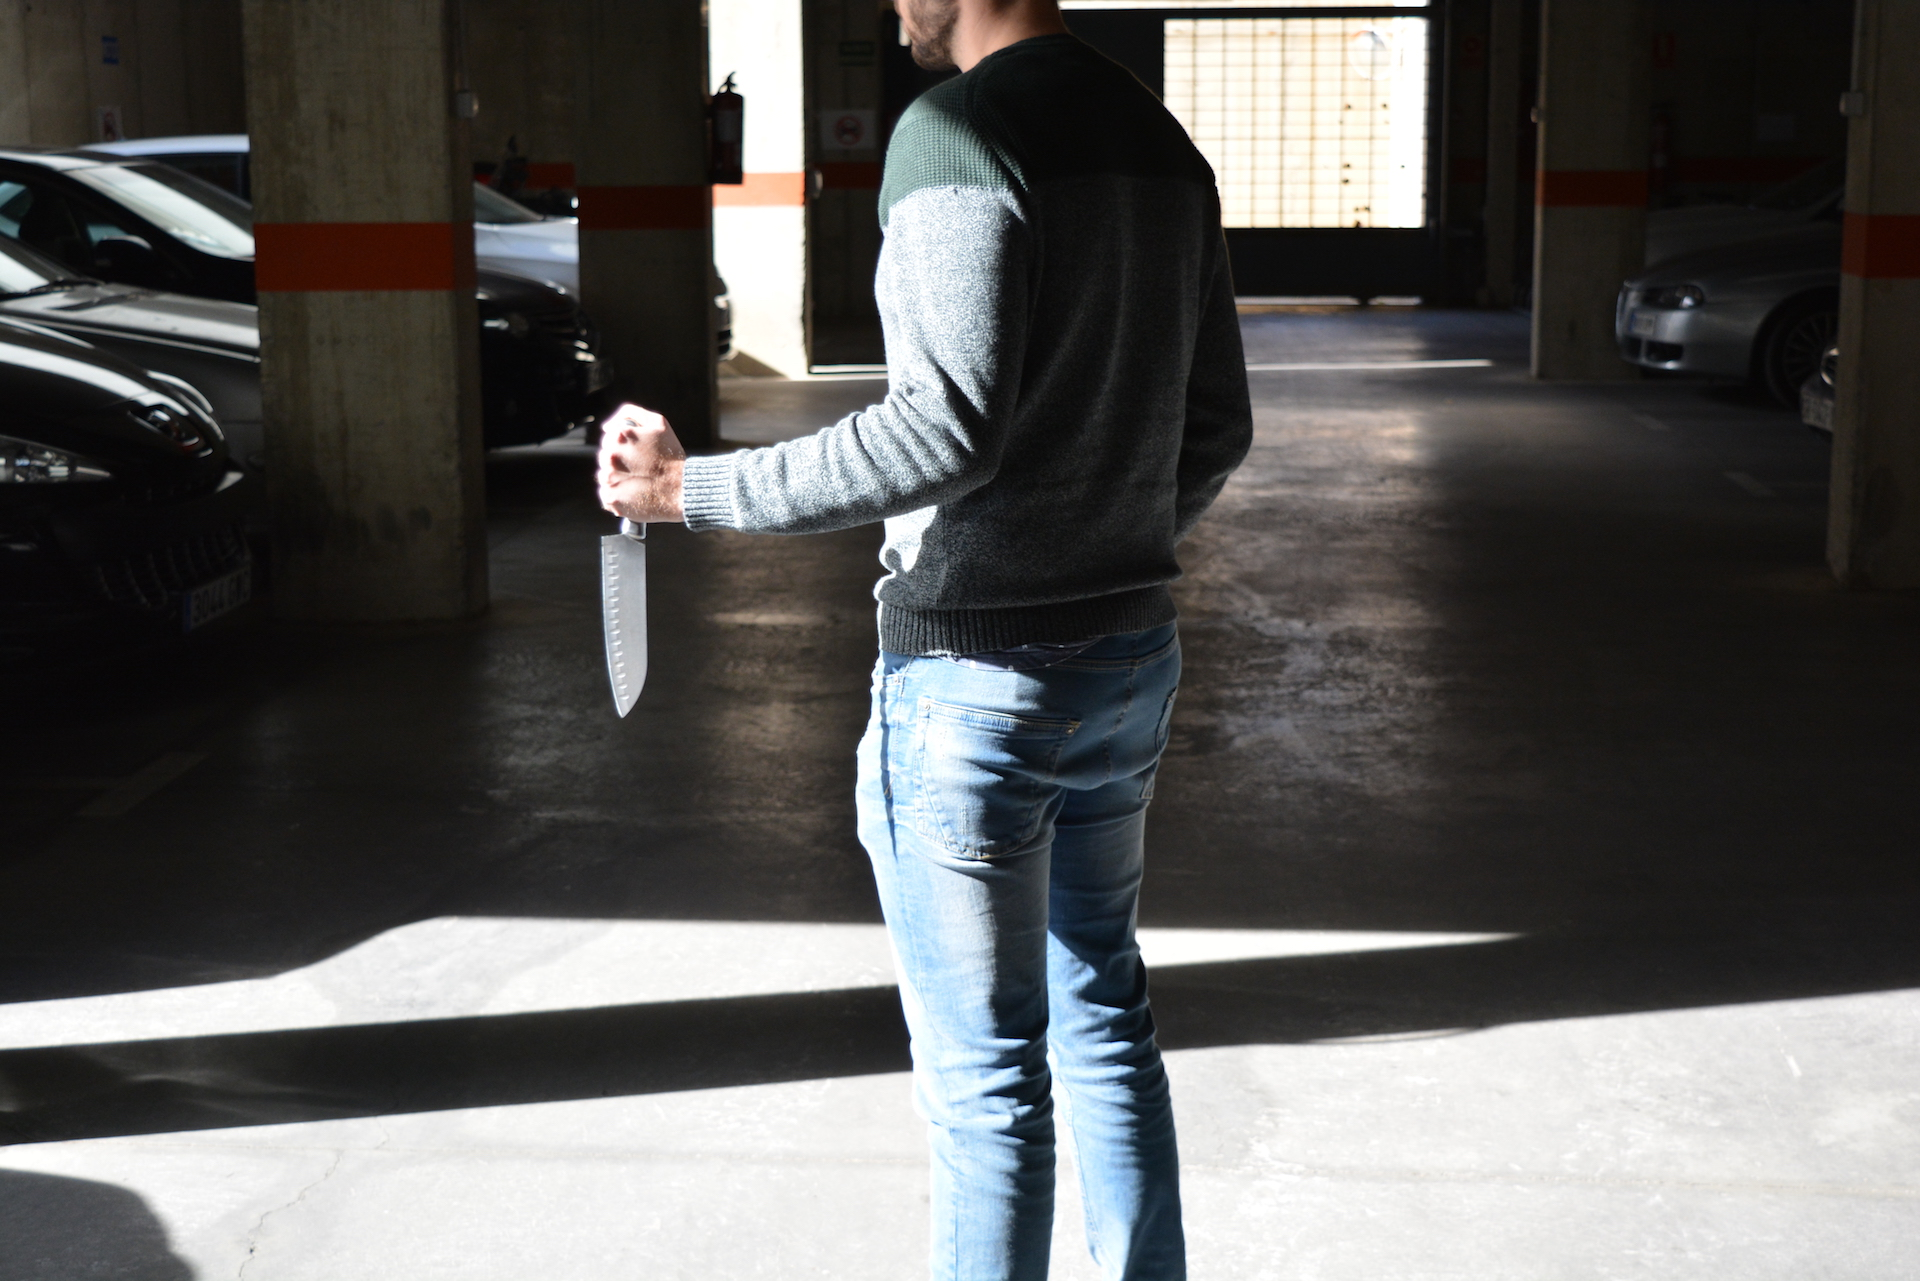knife: (590, 496, 662, 731)
